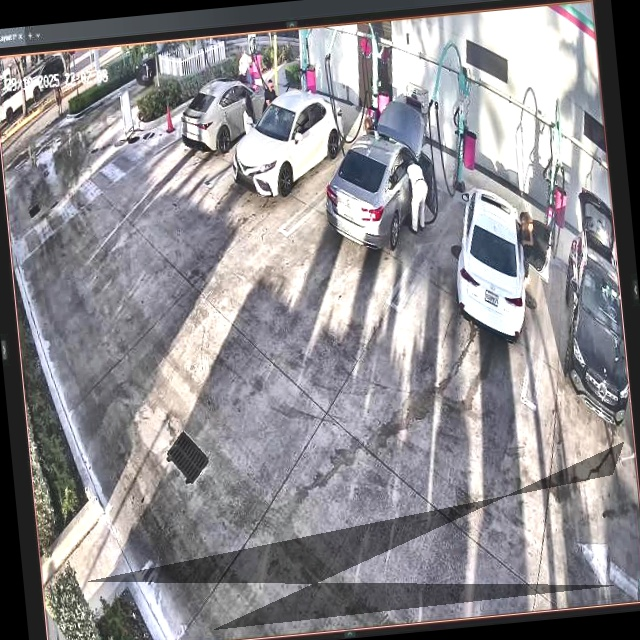Car: (316, 103, 442, 258), (448, 179, 561, 345), (228, 90, 349, 198), (173, 71, 281, 154)
